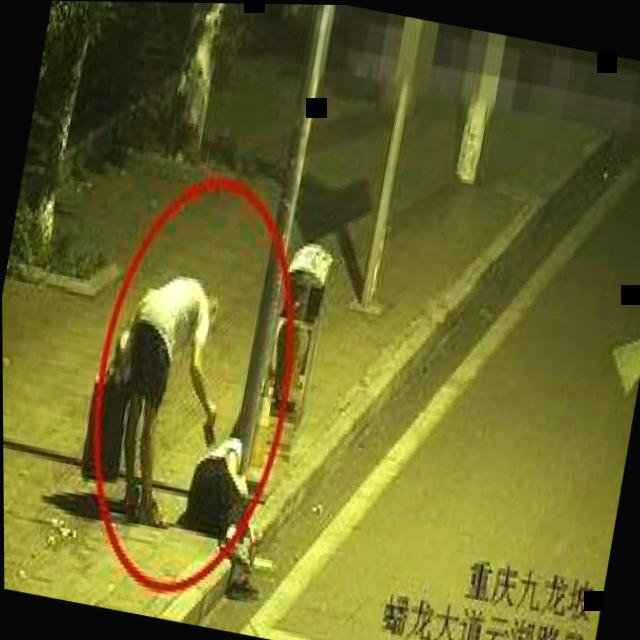Fall-Detected: (139, 396, 298, 588)
